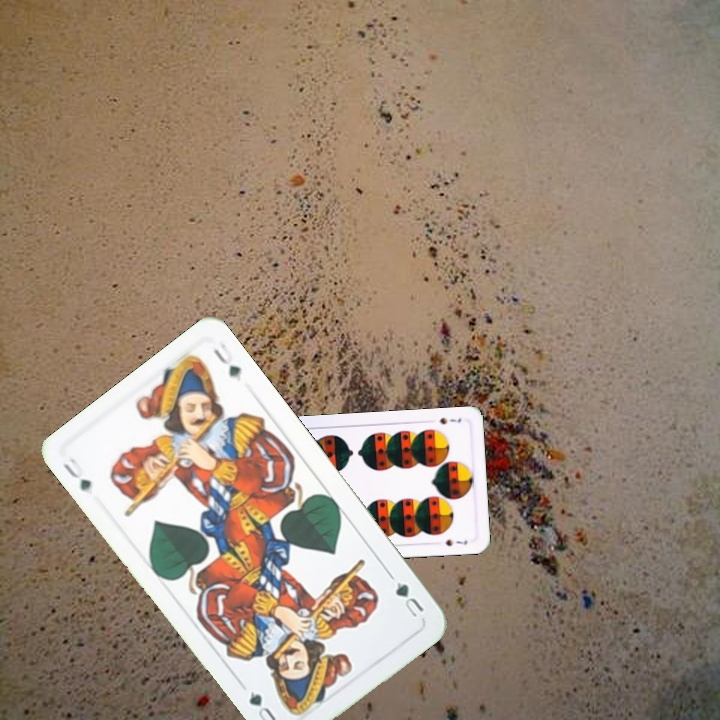GU: (391, 577, 427, 621), (58, 453, 94, 494)
S7: (436, 414, 464, 427)
